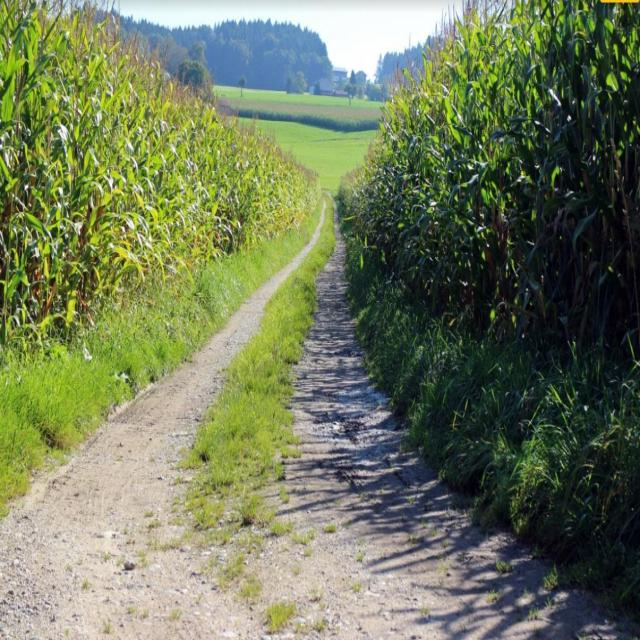row: (0, 189, 640, 640)
